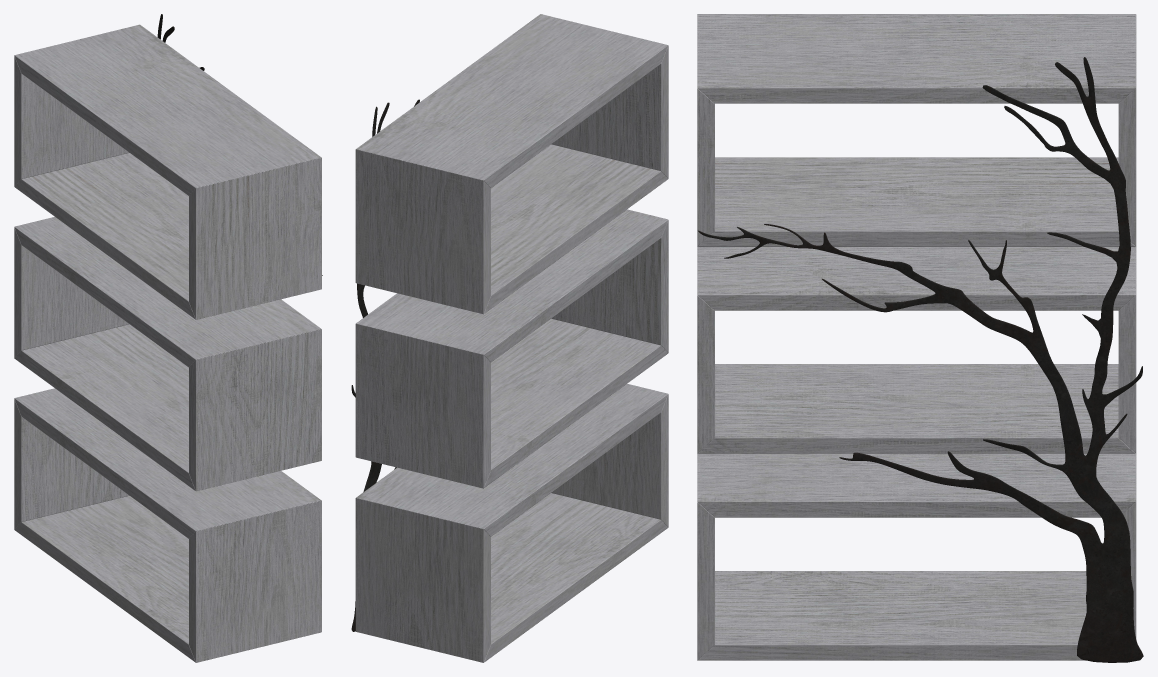
Rendered from shelf.fbx.
3 renders of one model, left to right at view 1: azimuth 30°, elevation 25°; view 2: azimuth 150°, elevation 25°; view 3: azimuth 270°, elevation 25°, orthographic. The views are drawn at different scales.
Visible parts, largest first — view 1: shelf; view 2: shelf; view 3: shelf.
Boxes of the visible parts, x1=… form: shelf: x1=14, y1=14, x2=322, y2=662; shelf: x1=351, y1=14, x2=668, y2=662; shelf: x1=697, y1=14, x2=1143, y2=662.
Bounding box in the file's own units: 40.37 × 152 × 102.
